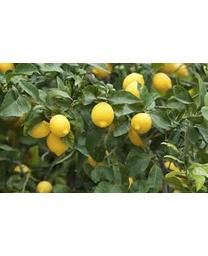lemon: (91, 102, 114, 128), (45, 133, 68, 155), (50, 113, 70, 137), (151, 72, 173, 92), (130, 114, 151, 134), (122, 74, 143, 93)
